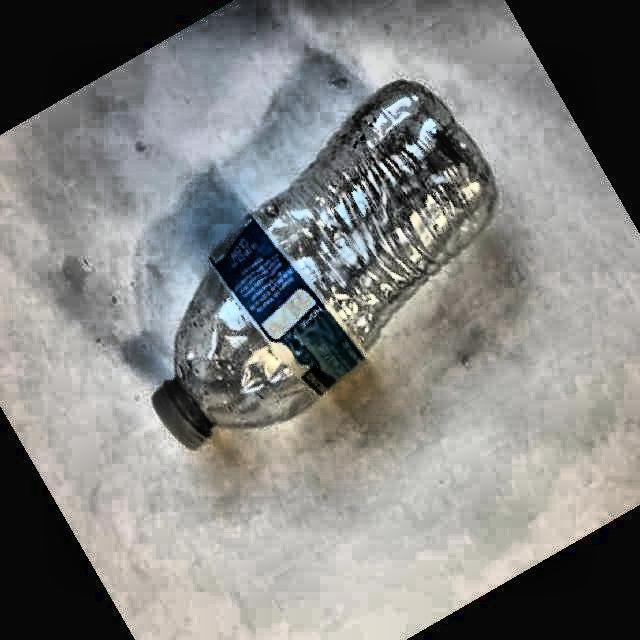plastic: (152, 81, 498, 448)
